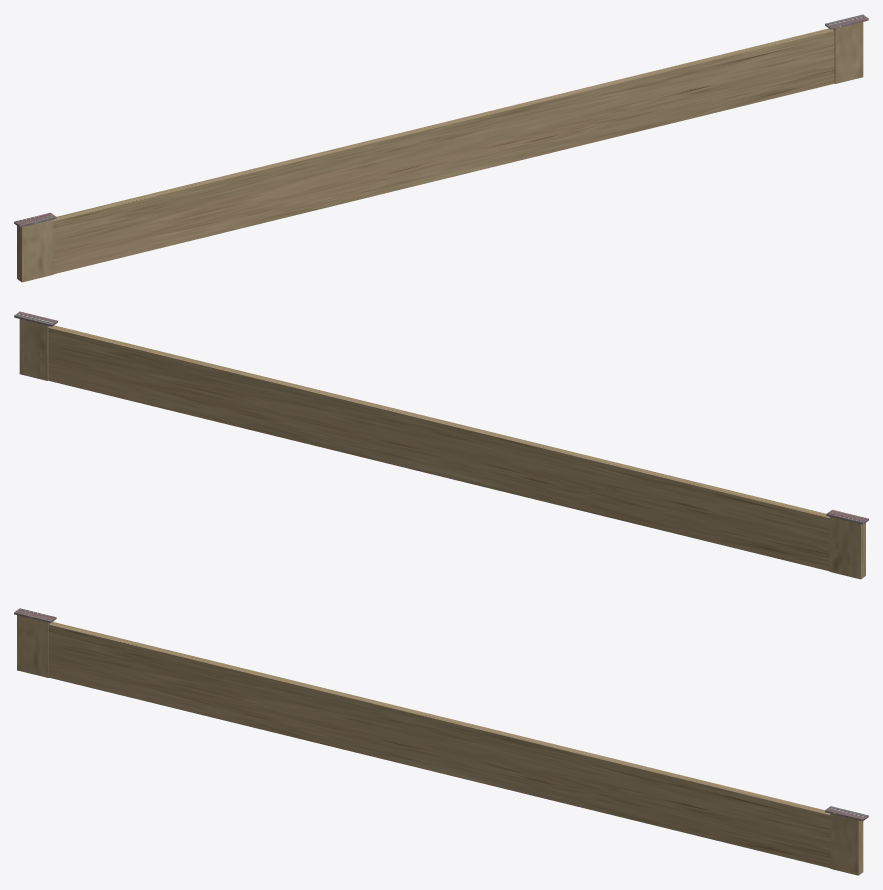
The model's file is Wall.fbx.
The picture shows the model from 3 angles, top to bottom: view 1: azimuth 30°, elevation 25°; view 2: azimuth 150°, elevation 25°; view 3: azimuth 330°, elevation 25°; orthographic projection.
Visible parts, largest first — view 1: Cube; view 2: Cube; view 3: Cube.
Boxes of the visible parts, x1,y1,x2,y2 form: Cube: (14,14,868,282); Cube: (14,311,868,579); Cube: (14,608,868,875).
Size of the model in its own units: 10056 by 652 by 120.
1 material, 1 textured.
